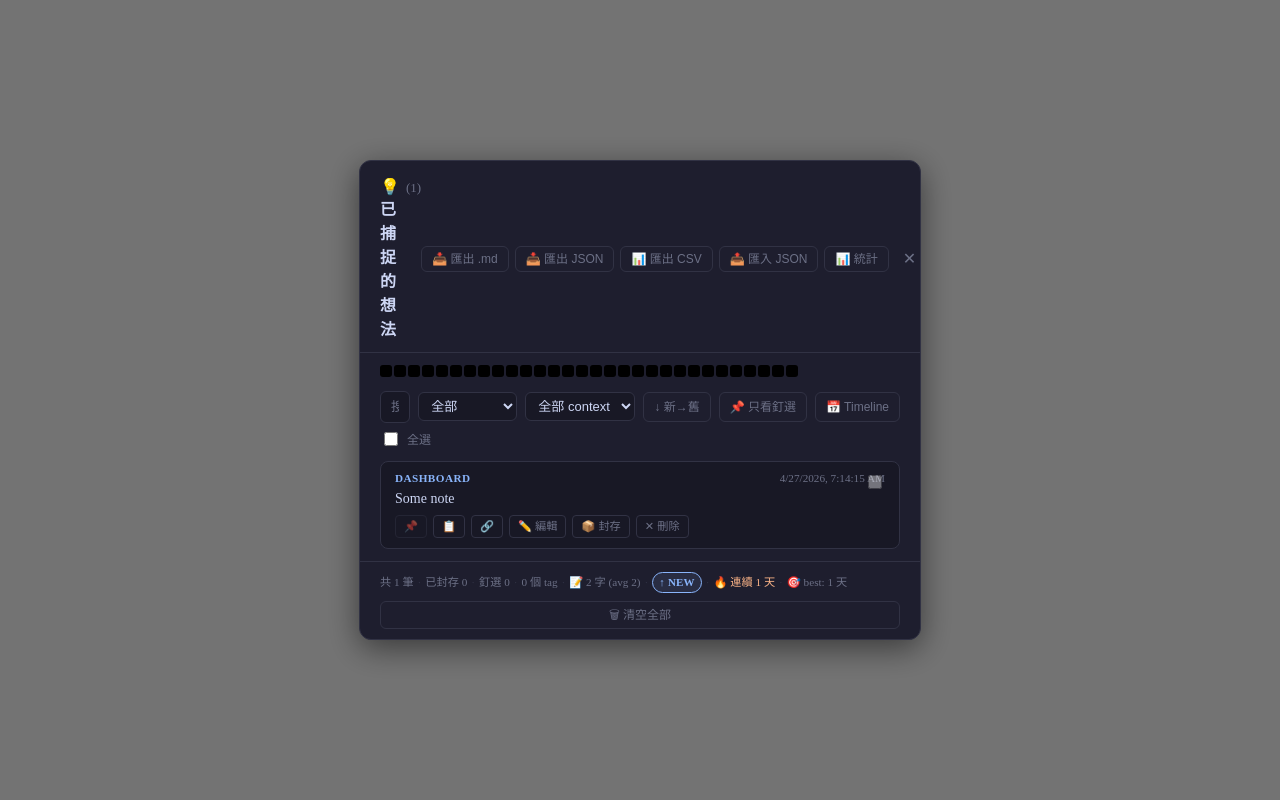
Test: QuickCaptureList — search › shows correct empty state message when only search is active
The width and height of the screenshot is (1280, 800).
In the field with placeholder "搜尋 captures...": (395, 407) [380,391,410,423], type "xyzzy_no_match"
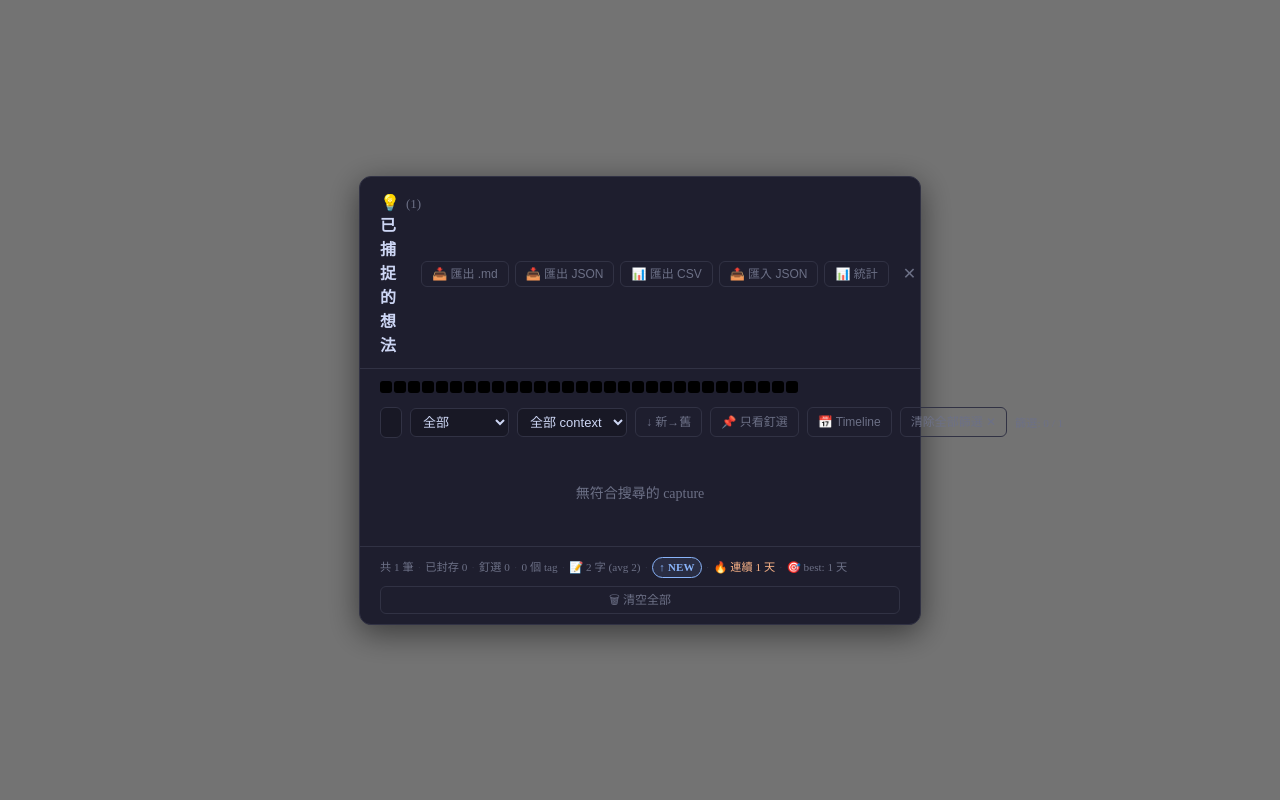
Result: the text "無符合搜尋的 capture" is shown at [576,486,704,501]
